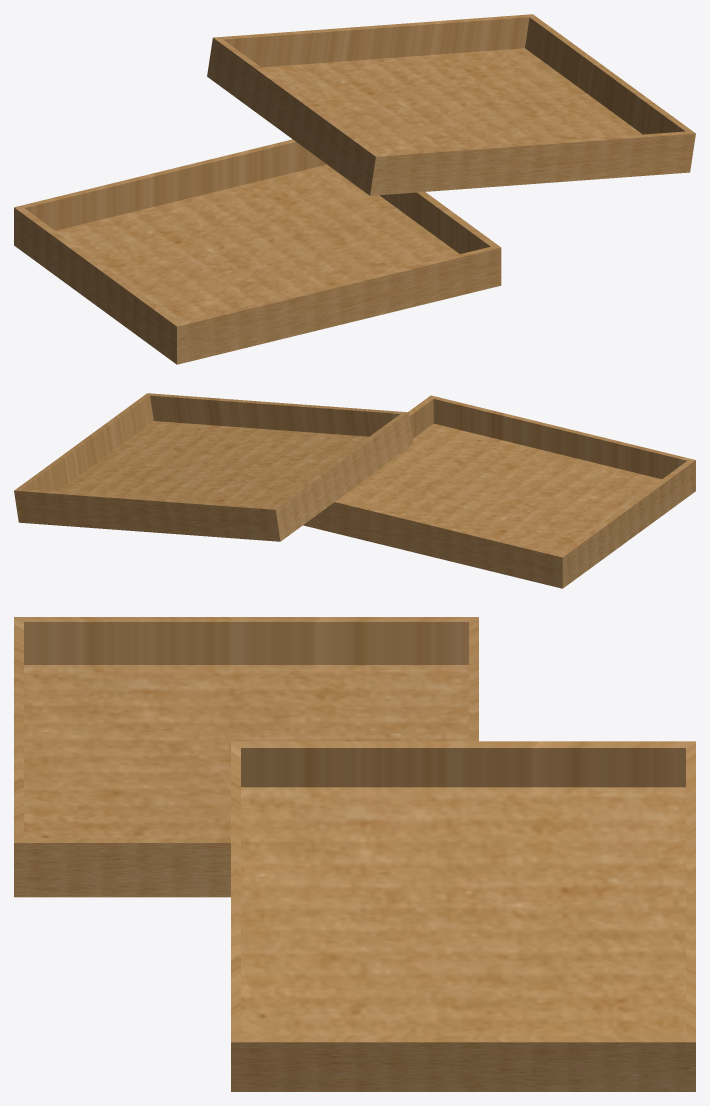
File: PIZZA.fbx
3 renders of one model, top to bottom at view 1: azimuth 30°, elevation 25°; view 2: azimuth 150°, elevation 25°; view 3: azimuth 270°, elevation 25°, orthographic. The views are drawn at different scales.
Visible parts, largest first — view 1: pCube47; view 2: pCube47; view 3: pCube47.
Boxes of the visible parts, box(x1,y1,x2,y2) form: pCube47: box(14, 14, 695, 364); pCube47: box(14, 393, 695, 588); pCube47: box(14, 617, 695, 1091).
Size of the model in its own units: 5.13 by 0.7606 by 3.57.
1 material, 1 textured.
